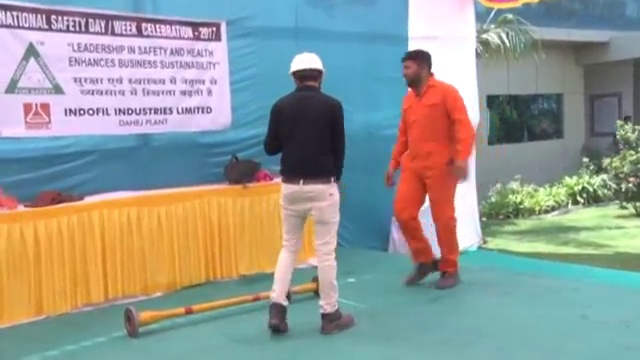helmet: (287, 51, 327, 77)
helmet_off: (398, 49, 435, 87)
helmet_on: (286, 50, 326, 92)
person: (258, 50, 357, 336), (385, 50, 475, 292)
